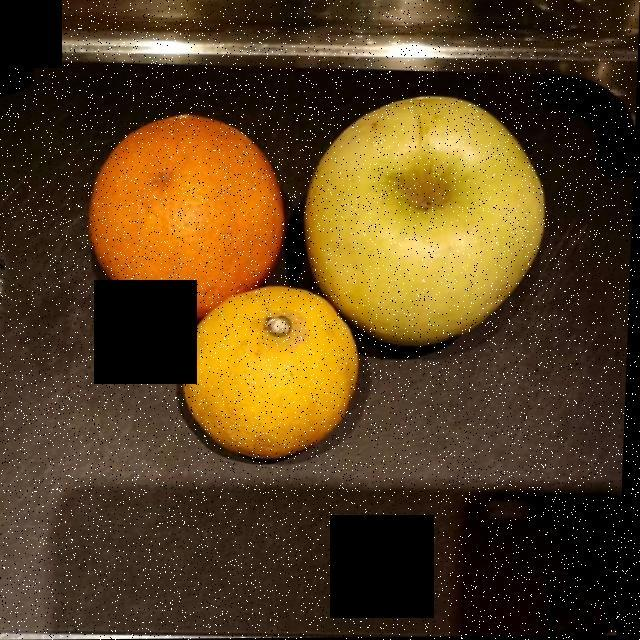apple: (308, 98, 527, 345)
lemon: (184, 286, 360, 459)
mandarine: (95, 120, 285, 316)
